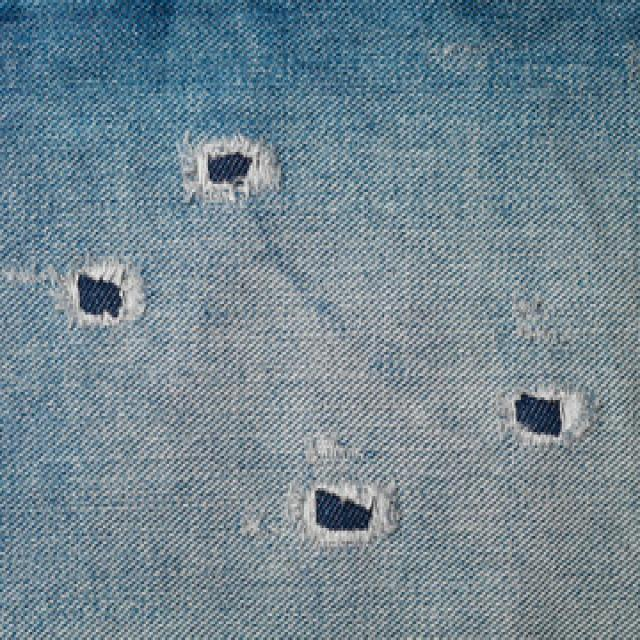Hole: (67, 260, 143, 325), (315, 490, 372, 531), (516, 394, 563, 437), (208, 152, 253, 182)
